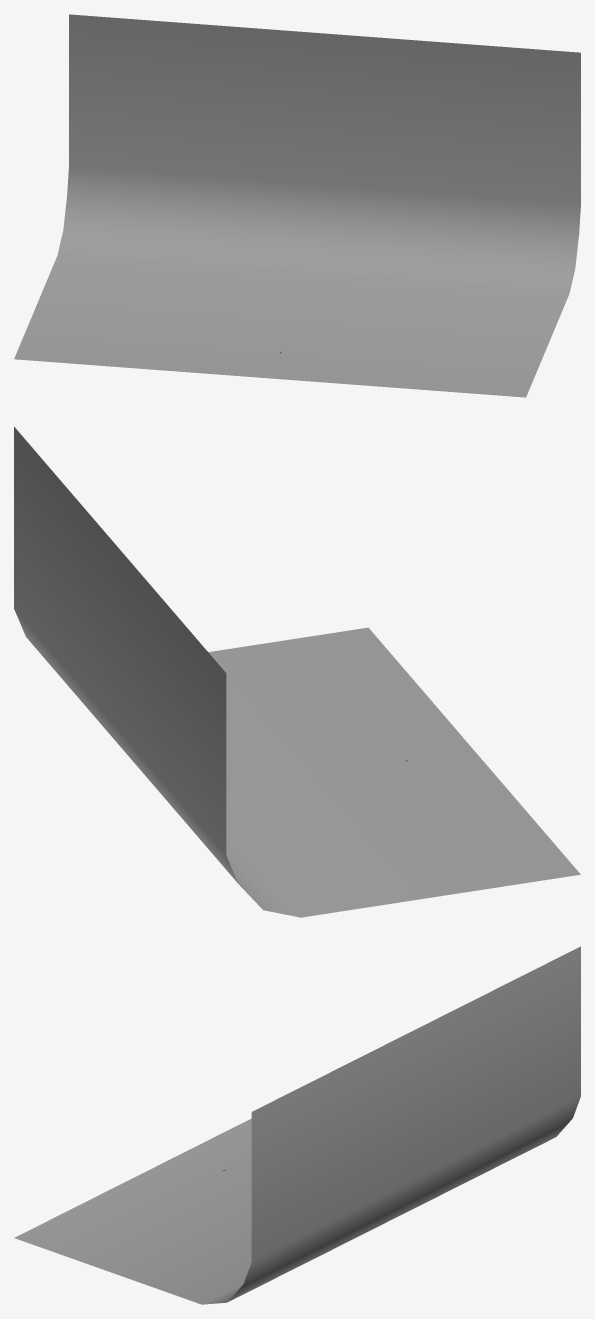
The model's file is Correctshark002.obj.
The picture shows the model from 3 angles, top to bottom: view 1: azimuth 30°, elevation 25°; view 2: azimuth 150°, elevation 25°; view 3: azimuth 270°, elevation 25°; orthographic projection. The views are drawn at different scales.
Visible parts, largest first — view 1: Imageplane_white_Imageplane_data; view 2: Imageplane_white_Imageplane_data; view 3: Imageplane_white_Imageplane_data.
Part boxes in pixels (left/top/right/bottom): Imageplane_white_Imageplane_data: left=14, top=14, right=580, bottom=397; Imageplane_white_Imageplane_data: left=14, top=426, right=580, bottom=917; Imageplane_white_Imageplane_data: left=14, top=946, right=580, bottom=1304.
Bounding box in the file's own units: 746 × 293 × 715.
